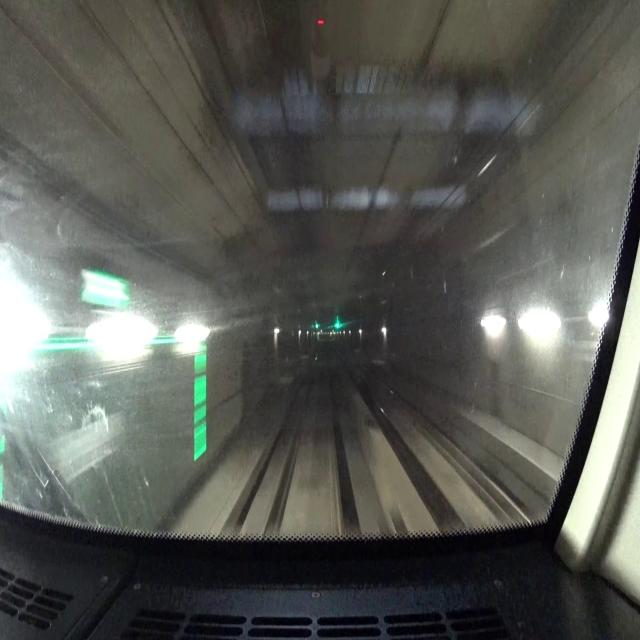rail-track: (337, 345, 526, 527), (277, 341, 338, 539)
